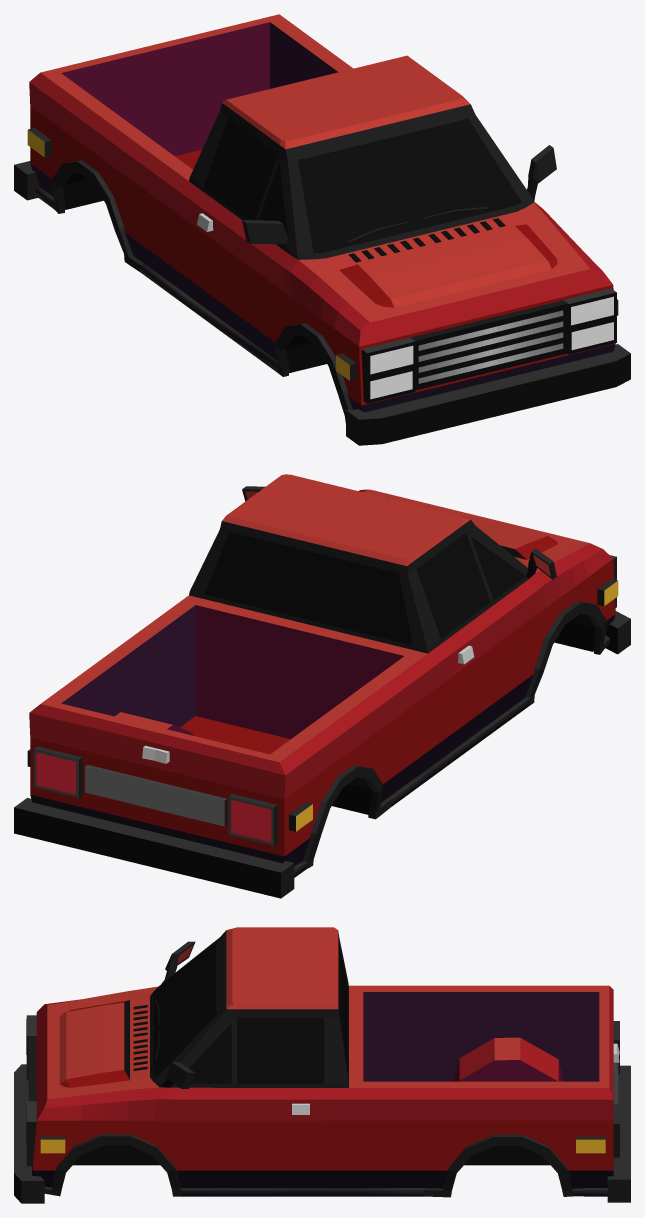
File: PickUp.004.fbx
3 views of the same model, one above another, from view 1: azimuth 30°, elevation 25°; view 2: azimuth 150°, elevation 25°; view 3: azimuth 270°, elevation 25° (orthographic). The views are drawn at different scales.
Visible parts, largest first — view 1: PickUp.004; view 2: PickUp.004; view 3: PickUp.004.
Boxes of the visible parts, bbox=[...] form: PickUp.004: bbox=[14, 14, 630, 445]; PickUp.004: bbox=[14, 474, 630, 898]; PickUp.004: bbox=[14, 927, 630, 1203].
Size of the model in its own units: 2.02 by 1.28 by 4.
